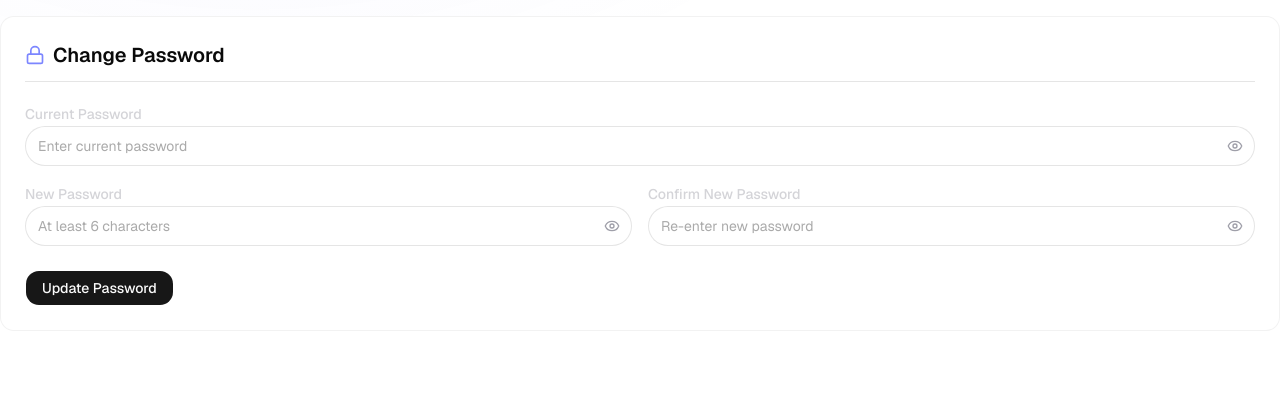
Scenario: Component: ChangePasswordForm (C27-C28) › C28: shows error when new passwords do not match
In the password field labelled "Current Password": (640, 146) [25,126,1255,166], type "CurrentPass123!"
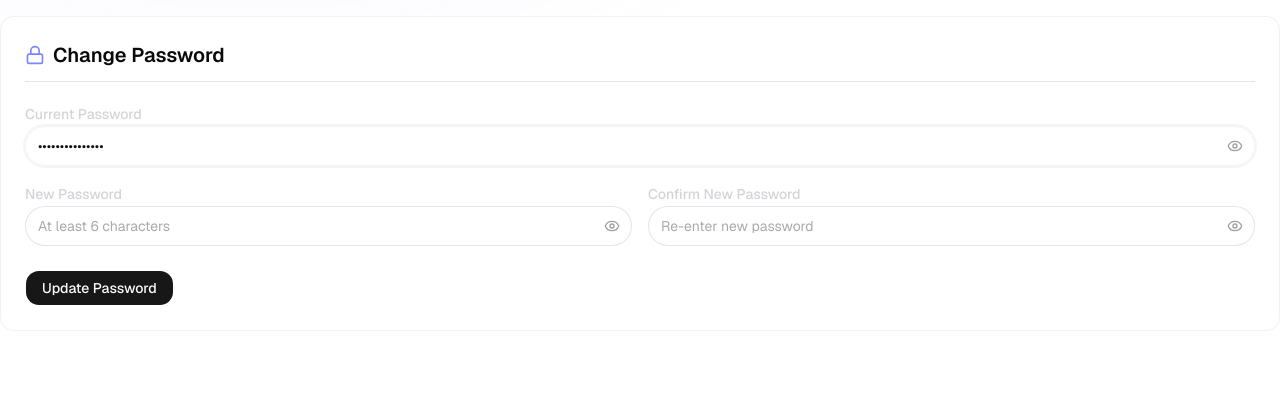
In the password field labelled "New Password": (328, 226) [25,206,632,246], type "NewPass123!"
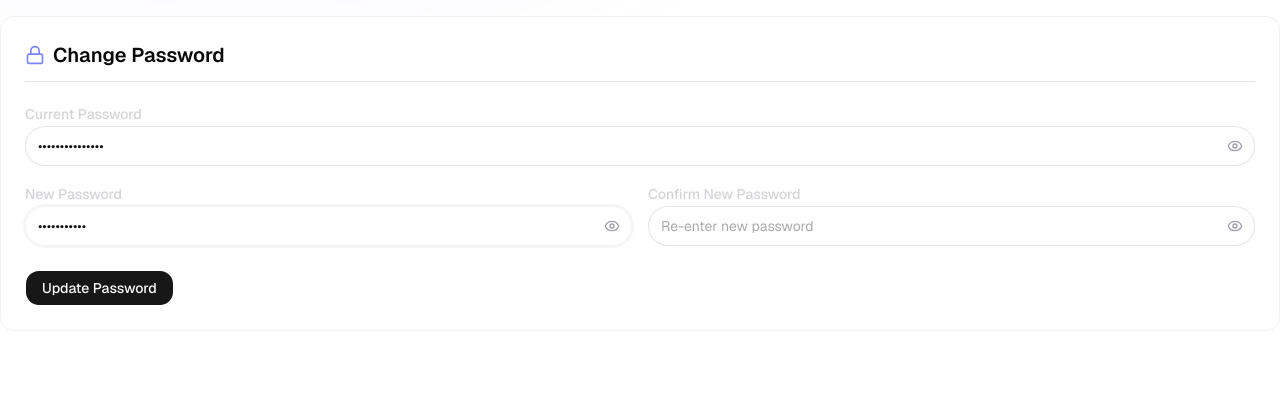
In the password field labelled "Confirm New Password": (952, 226) [648,206,1255,246], type "DifferentPass123!"
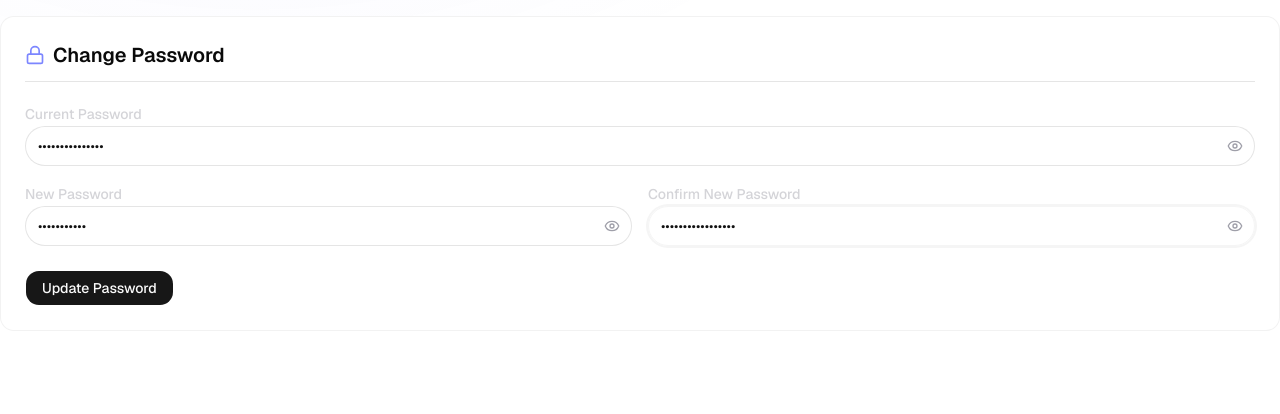
Click the button "Update Password": (99, 288) [25,270,174,306]
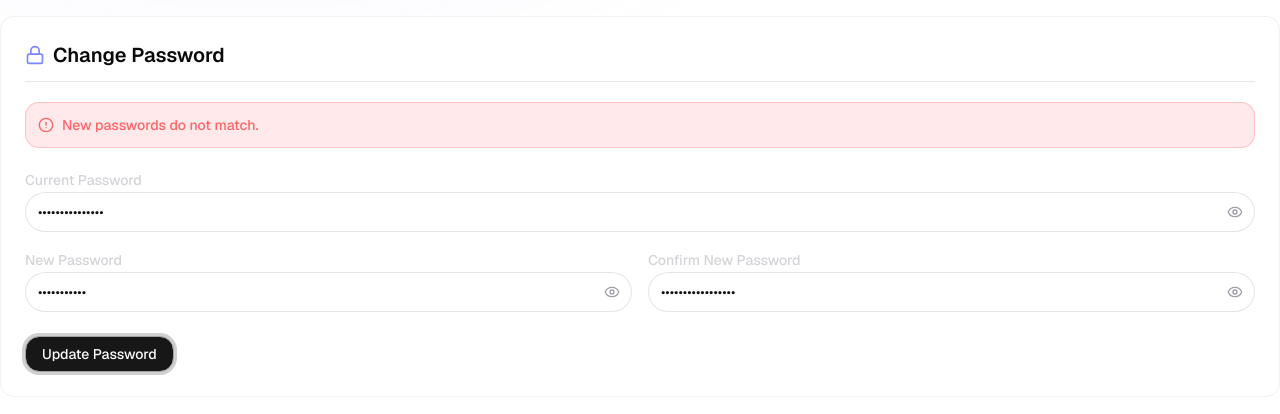
Expected: the text "New passwords do not match." is shown, [62,115,258,135]
